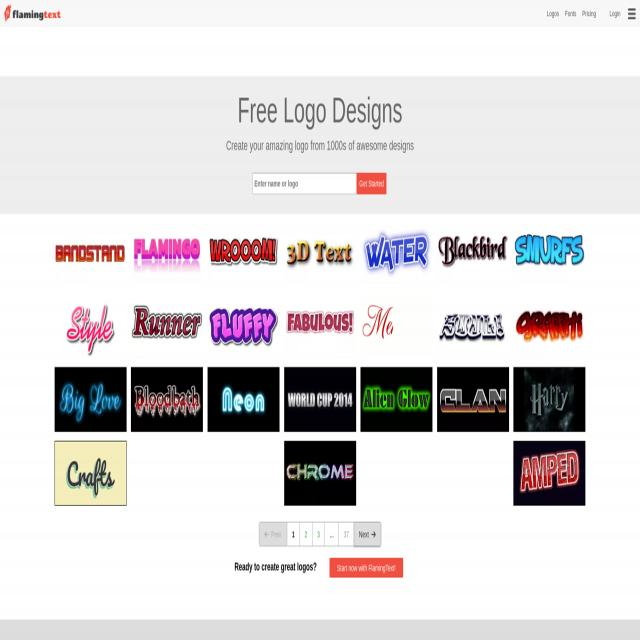button: (131, 220, 203, 284), (284, 220, 356, 284), (437, 220, 509, 284), (131, 294, 203, 358), (284, 294, 356, 358), (437, 294, 509, 358), (131, 368, 203, 432), (284, 368, 356, 432), (437, 368, 509, 432), (284, 442, 356, 506), (514, 220, 585, 284), (55, 220, 126, 284), (208, 220, 279, 284), (361, 220, 432, 284), (514, 294, 585, 358), (55, 294, 126, 358), (208, 294, 279, 358), (361, 294, 432, 358), (514, 368, 585, 432), (55, 368, 126, 432), (208, 368, 279, 432), (361, 368, 432, 432), (514, 442, 585, 506), (55, 442, 126, 506), (329, 558, 403, 578), (3, 2, 62, 24), (259, 522, 287, 547), (354, 522, 381, 546), (356, 173, 386, 194), (338, 523, 354, 546), (324, 523, 338, 546), (287, 523, 300, 546), (300, 522, 312, 546), (313, 522, 325, 546), (625, 5, 638, 23)
field: (252, 173, 356, 194)
